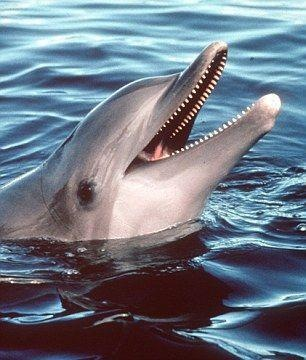fish: (4, 38, 282, 265)
